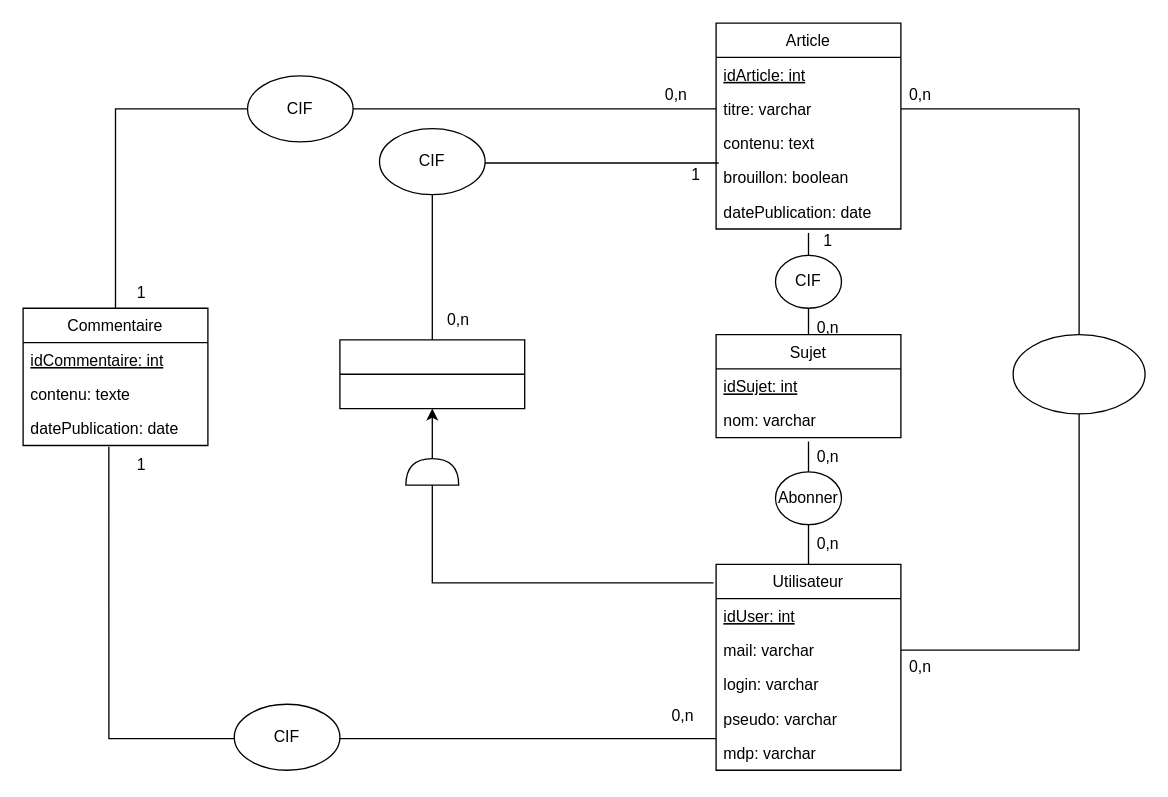
This 1168x797 diagram has some shape labels left out. Each missing label, with the centre of its shape:
Admin: pixel 432 374
Aimer: pixel 1078 373
